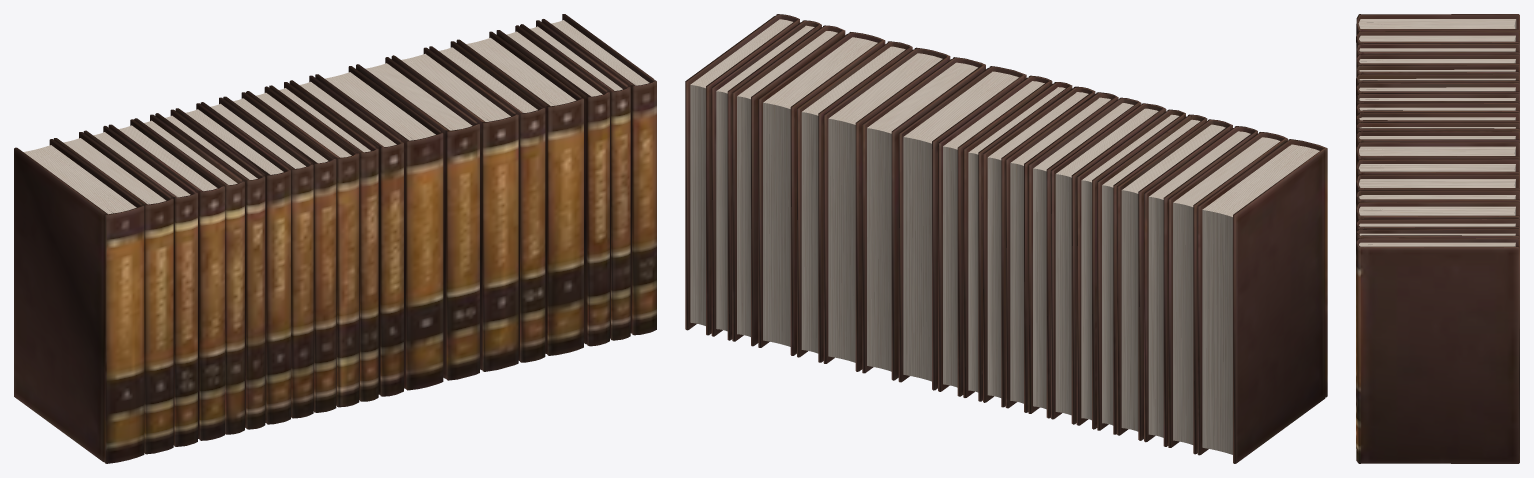
Rendered from books.glb.
3 views of the same model, side by side, from view 1: azimuth 30°, elevation 25°; view 2: azimuth 150°, elevation 25°; view 3: azimuth 270°, elevation 25° (orthographic). The views are drawn at different scales.
Parts seen in each view (by area): view 1: book_encyclopedia_set_01_book01; view 2: book_encyclopedia_set_01_book01; view 3: book_encyclopedia_set_01_book01.
Part boxes in pixels (<box>): book_encyclopedia_set_01_book01: <box>14,14,656,463</box>; book_encyclopedia_set_01_book01: <box>685,14,1327,463</box>; book_encyclopedia_set_01_book01: <box>1356,14,1519,463</box>.
Size of the model in its own units: 0.5513 by 0.2374 by 0.1631.
2 materials, 2 textured.
